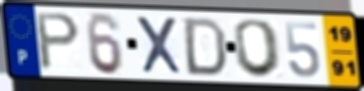5: (282, 20, 322, 80)
6: (84, 10, 126, 77)
D: (182, 16, 228, 78)
O: (232, 17, 285, 79)
P: (34, 11, 83, 73)
X: (133, 14, 185, 77)
